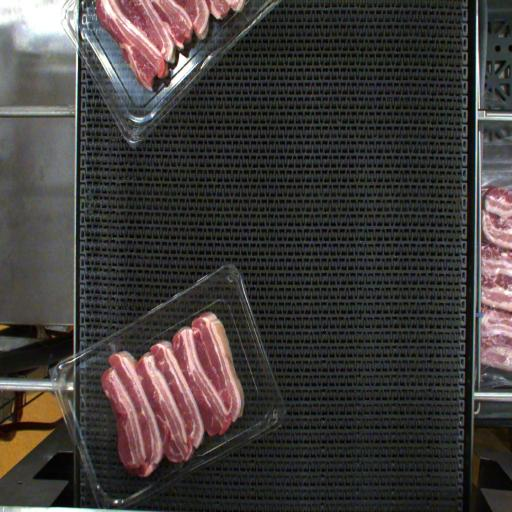packaging-error: (105, 334, 120, 356)
